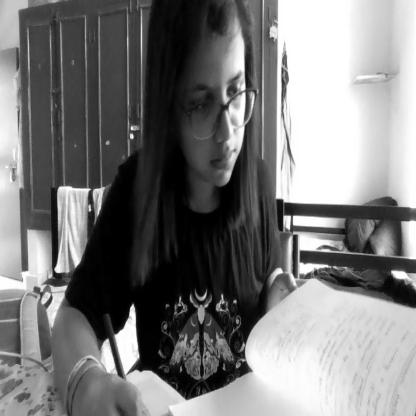Distracted: (160, 0, 252, 197)
